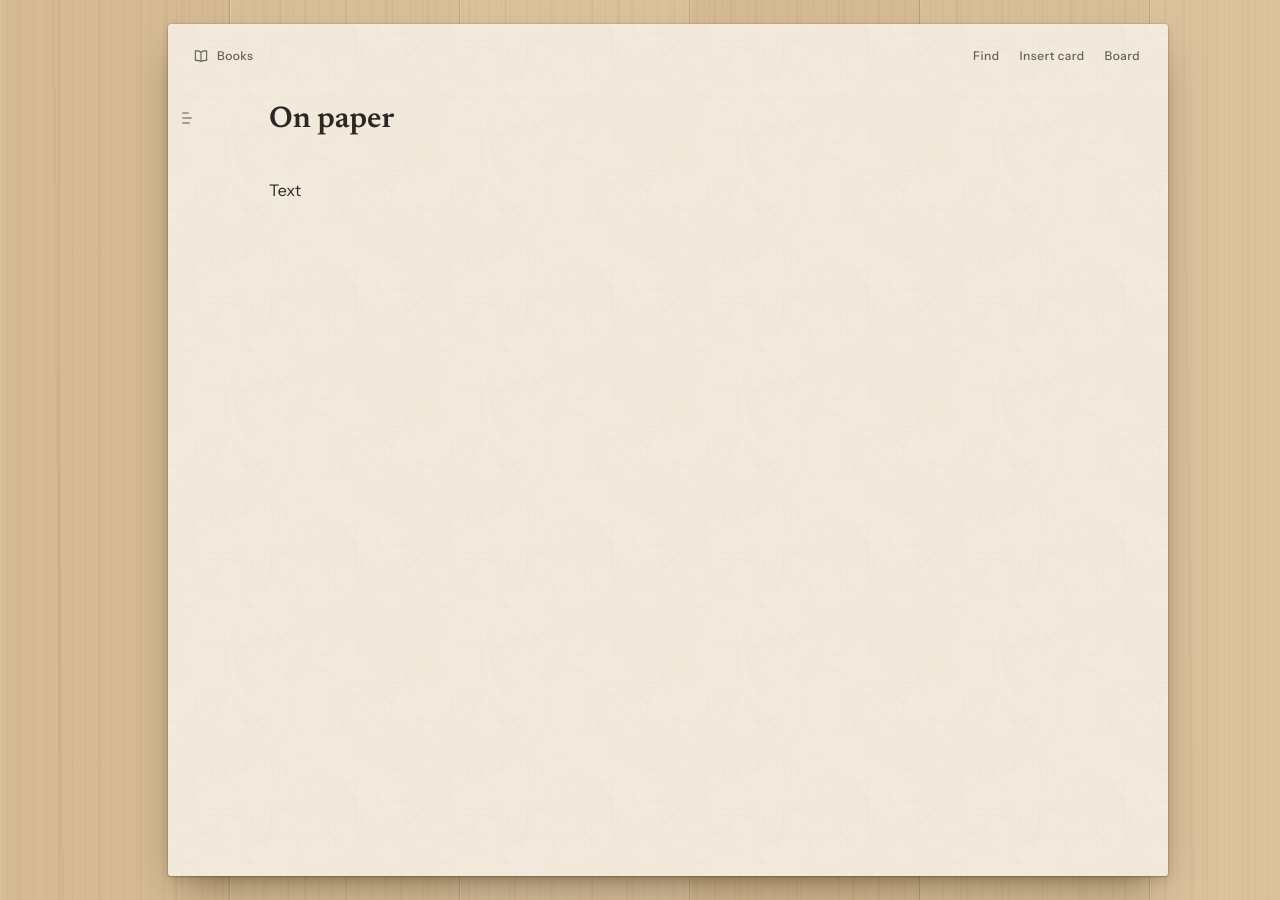
the writer › the title field is the one way to rename: typing in it updates the shelf
Replace the text in the field named "title" with "On collecting" at (557, 123), box [269, 100, 845, 146]
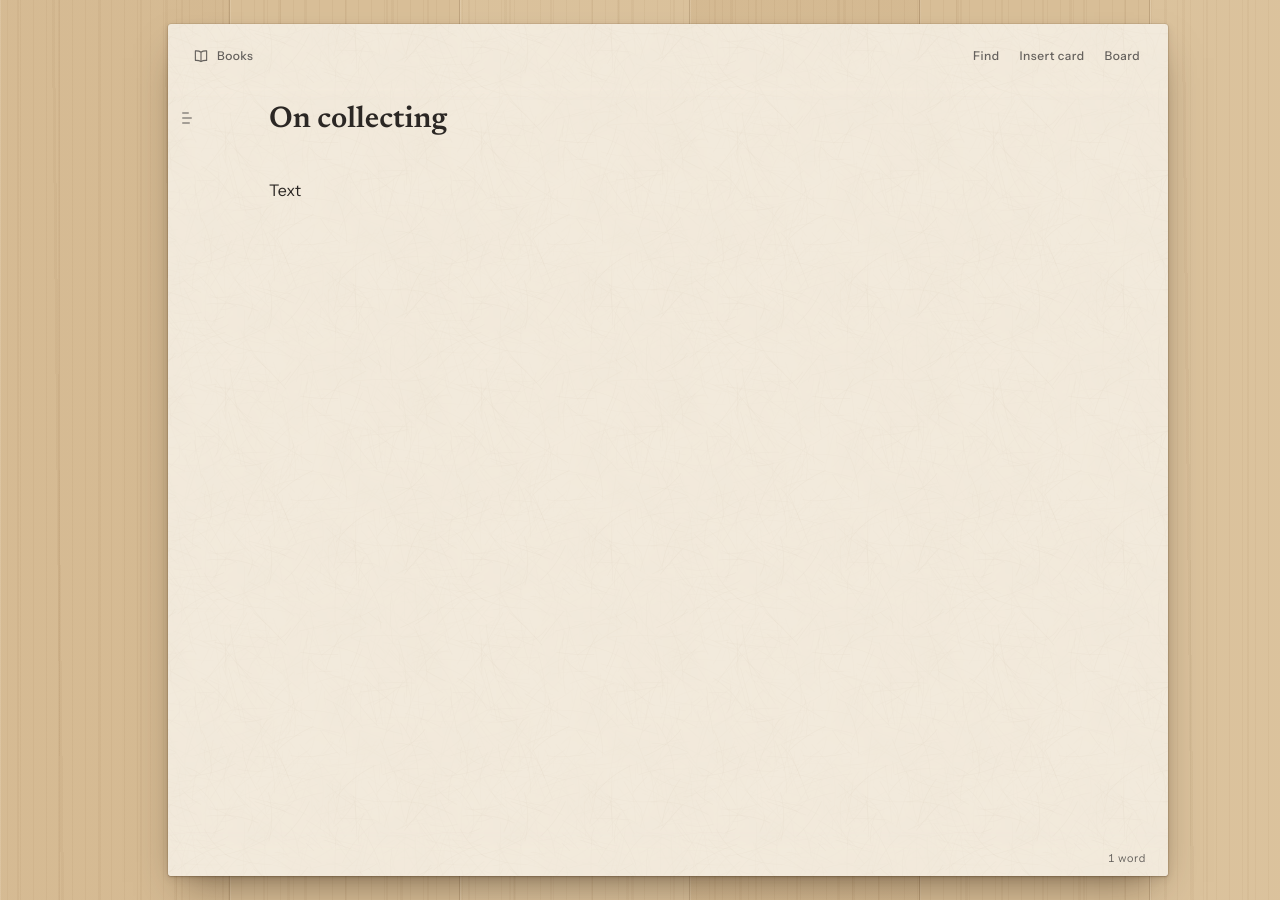
Expected: the number of fields named "title" is 1, [269, 100, 845, 146]
Expected: the dialog named "On collecting" is shown
